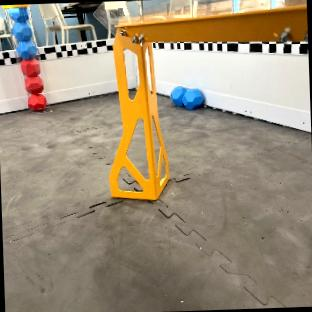V5_BLUE: (6, 6, 37, 58), (171, 87, 203, 109)
V5_RED: (21, 58, 45, 110)
